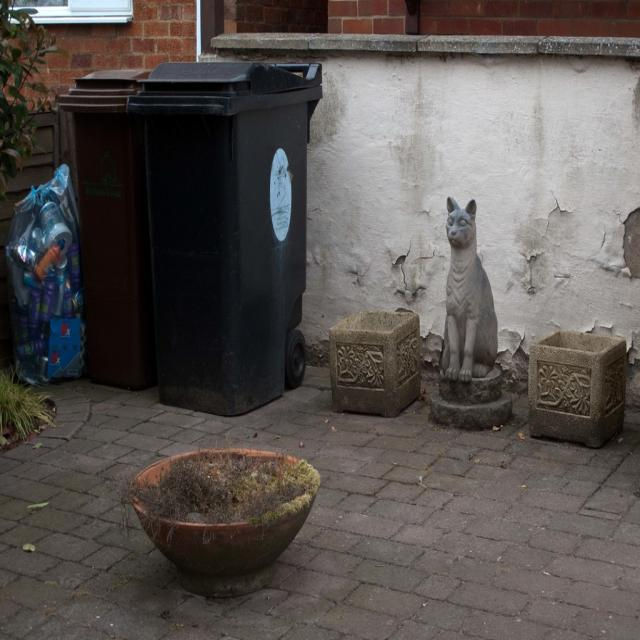Cat: (435, 192, 499, 382)
